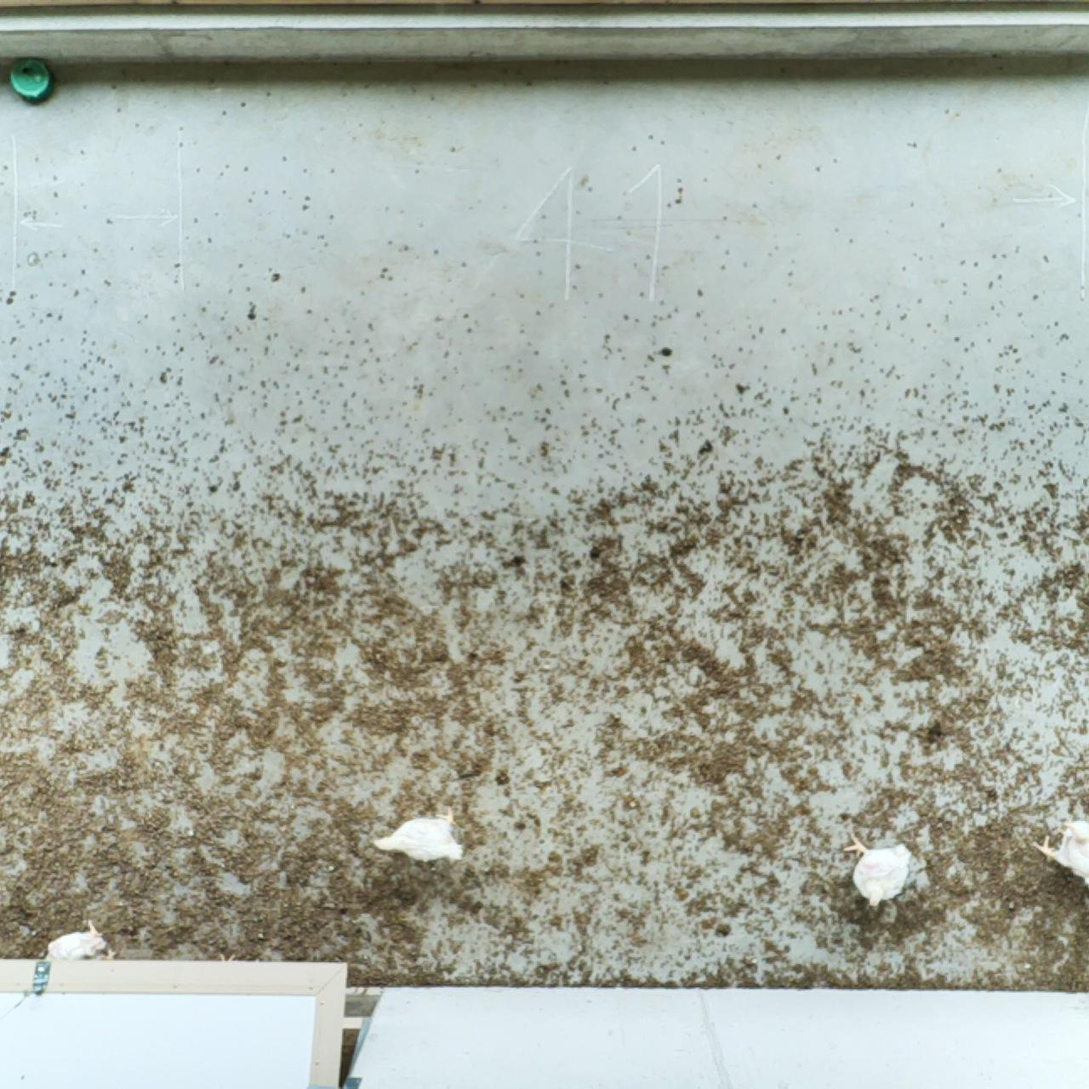chicken: (369, 807, 468, 866), (843, 834, 915, 909), (1033, 815, 1089, 886), (46, 921, 107, 962)
